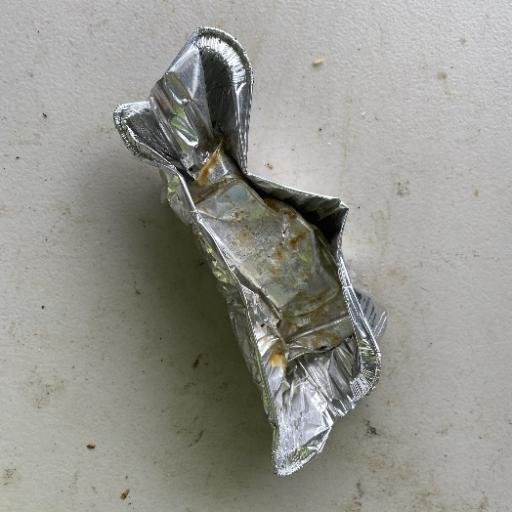Metal: (111, 24, 388, 477)
